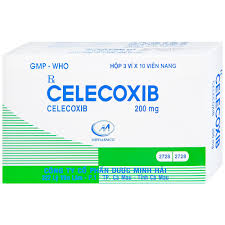Celecoxip: (44, 84, 164, 103)
